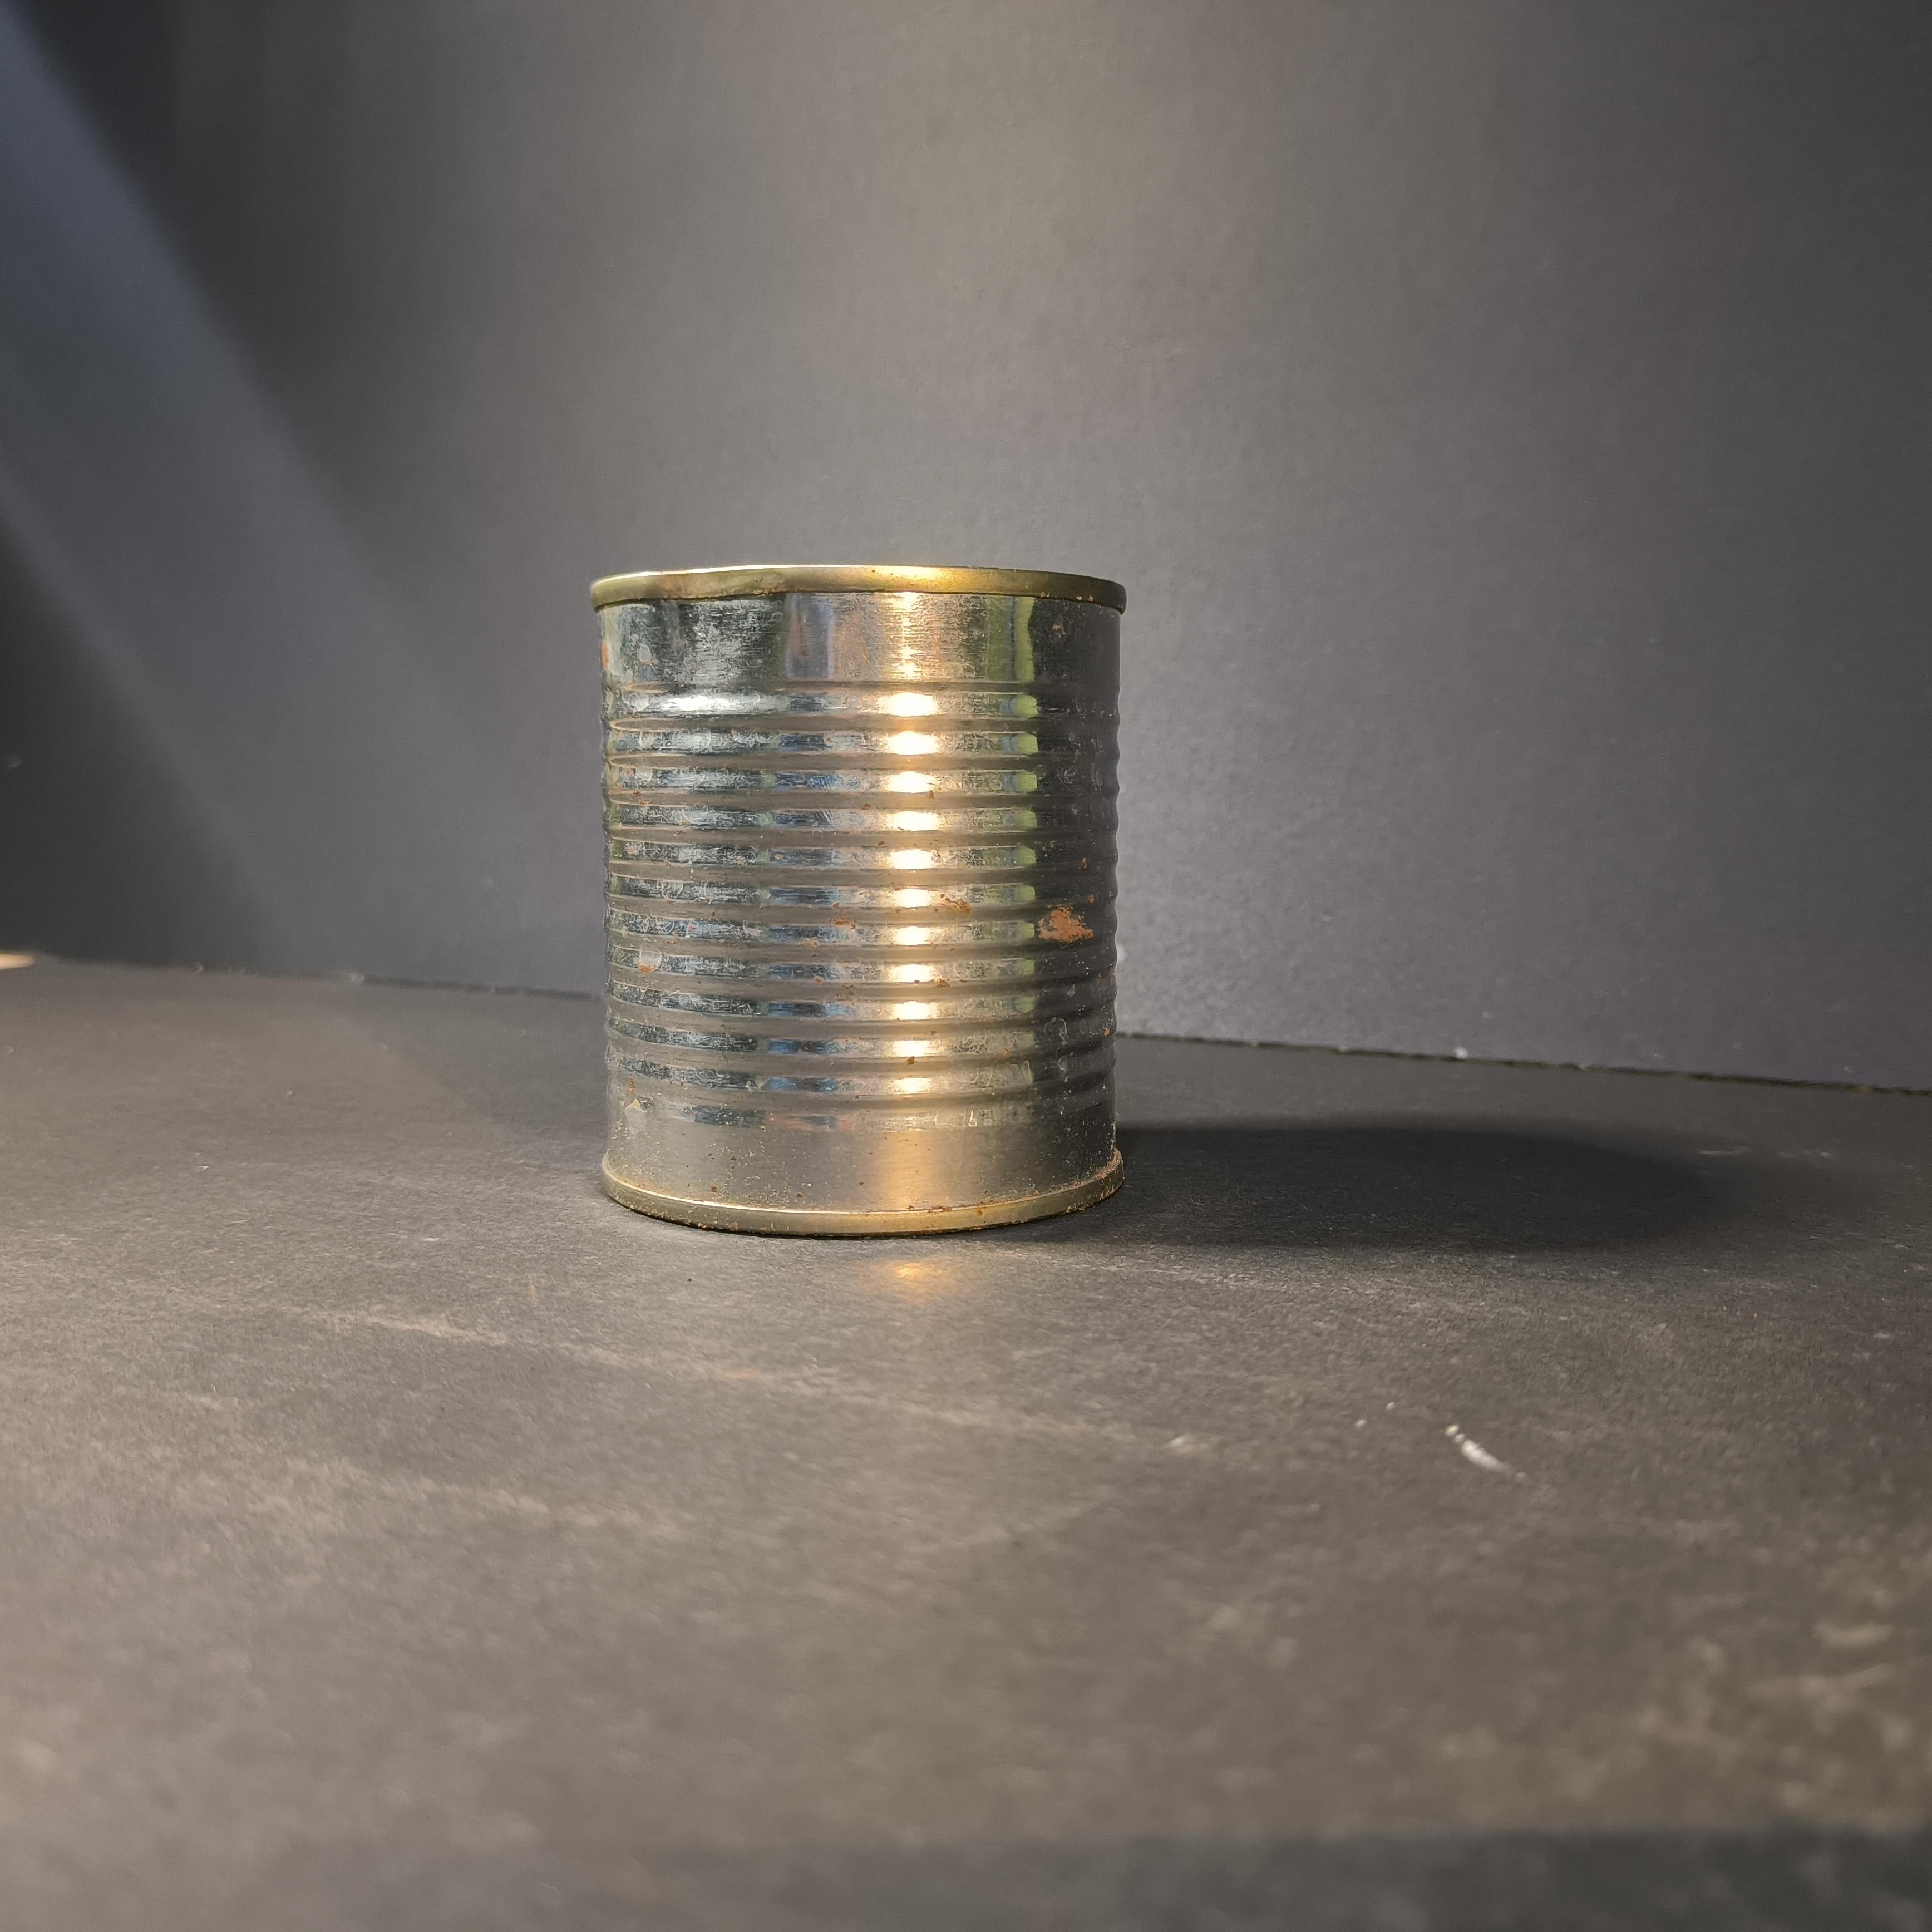Dented: (573, 525, 1180, 1267)
